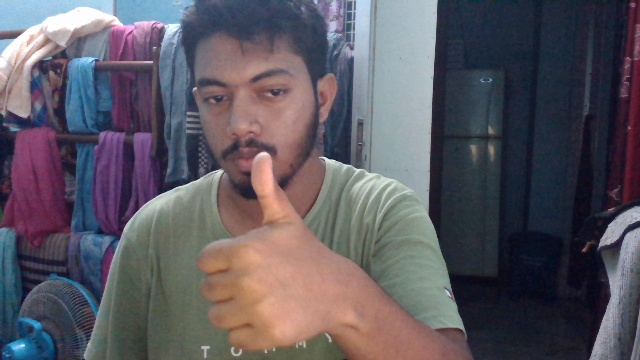yes: (184, 147, 342, 350)
